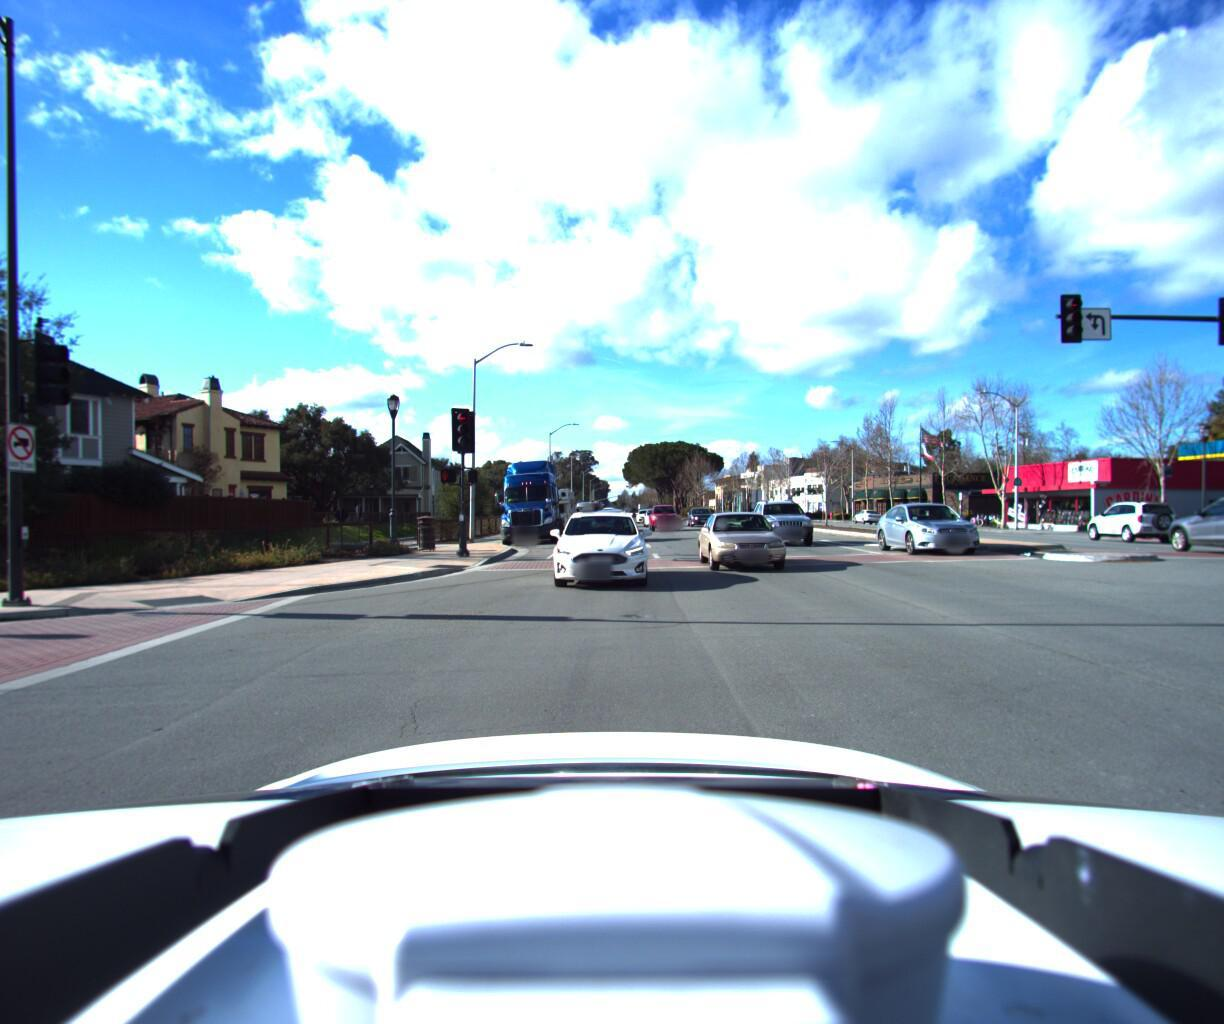car: (548, 506, 650, 591), (697, 504, 809, 580), (869, 498, 992, 554), (1136, 496, 1224, 556), (752, 497, 830, 550), (1062, 500, 1162, 541), (649, 505, 685, 533), (687, 506, 720, 531), (851, 509, 886, 527)
other_vehicle: (526, 483, 577, 537)
truck: (493, 454, 565, 546)
